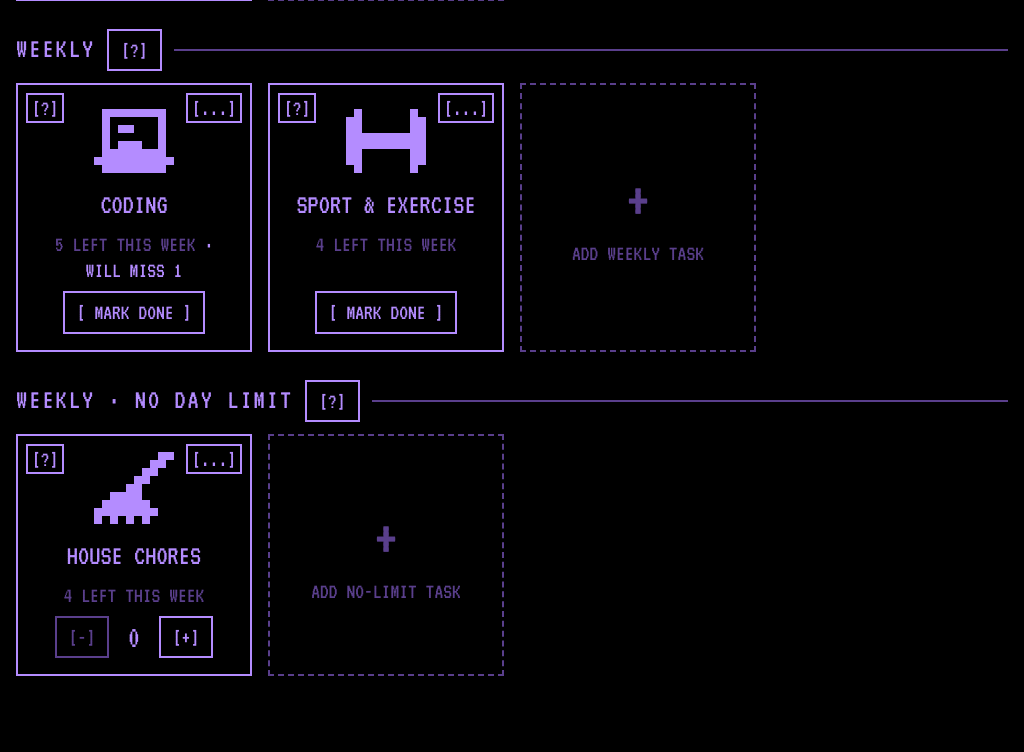
Test: App › counts chores up and down
The width and height of the screenshot is (1024, 752).
(page scrolled)
Expected: the button named "Remove one House Chores" is disabled, [55,616,109,658]
Click the button named "Add one House Chores": [186, 637] box [159,616,213,658]
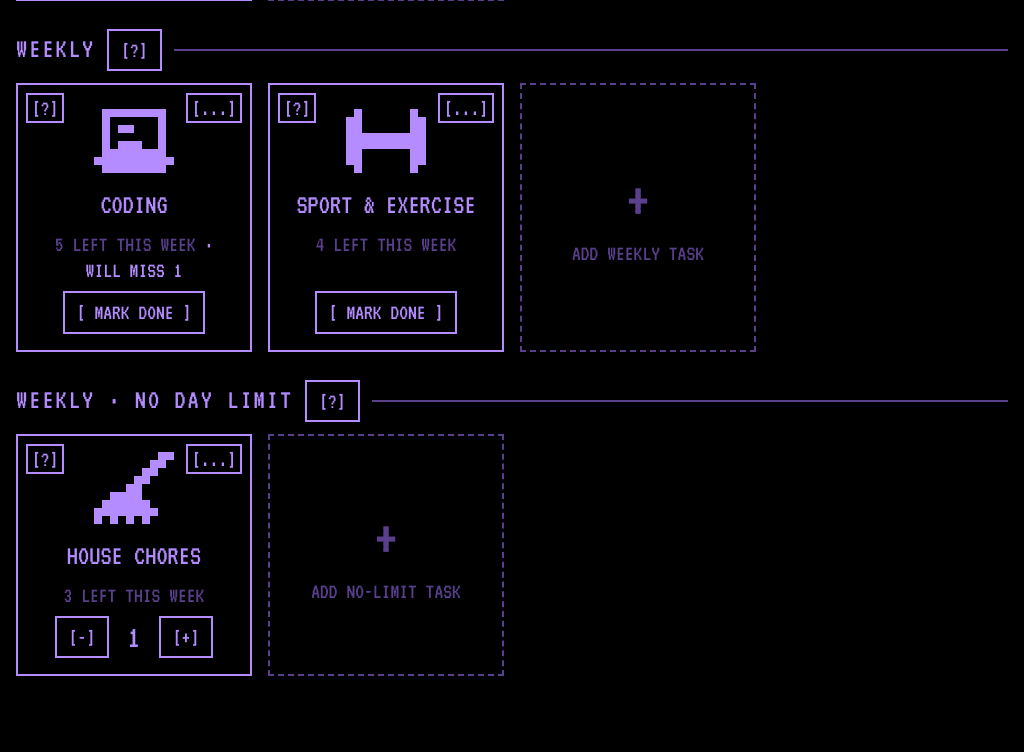
Click the button named "Add one House Chores": [186, 637] box [159,616,213,658]
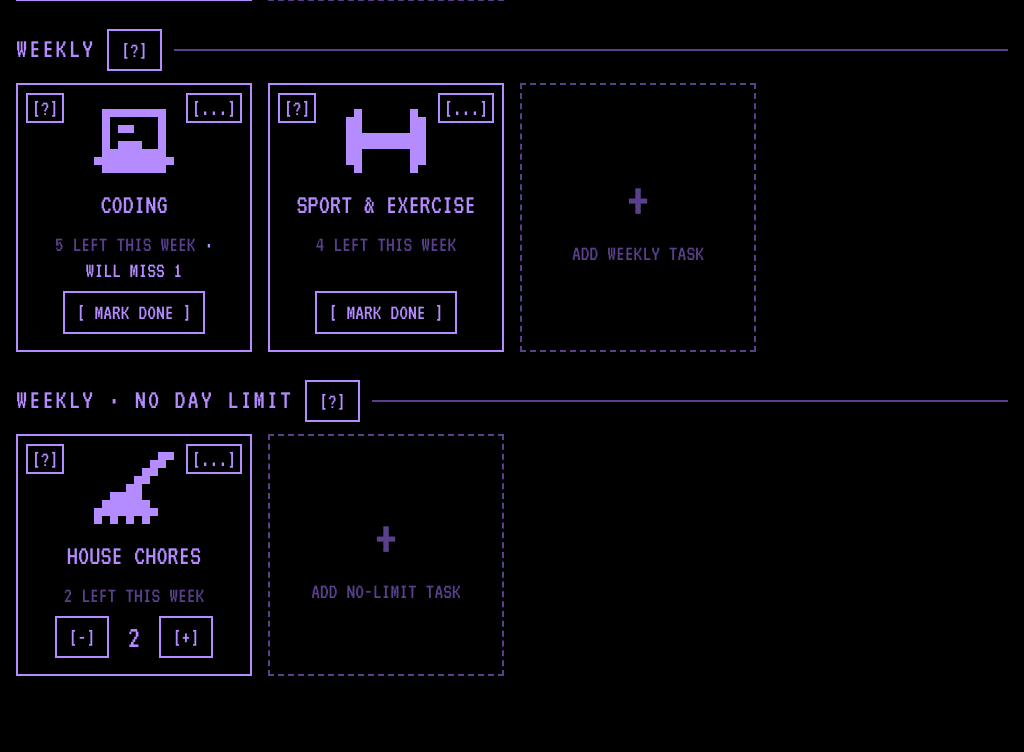
Result: the text "2" is shown at [128,621,140,653]
Result: the text "2 LEFT THIS WEEK" is shown at [64,582,204,608]
Click the button named "Remove one House Chores": [82, 637] box [55,616,109,658]
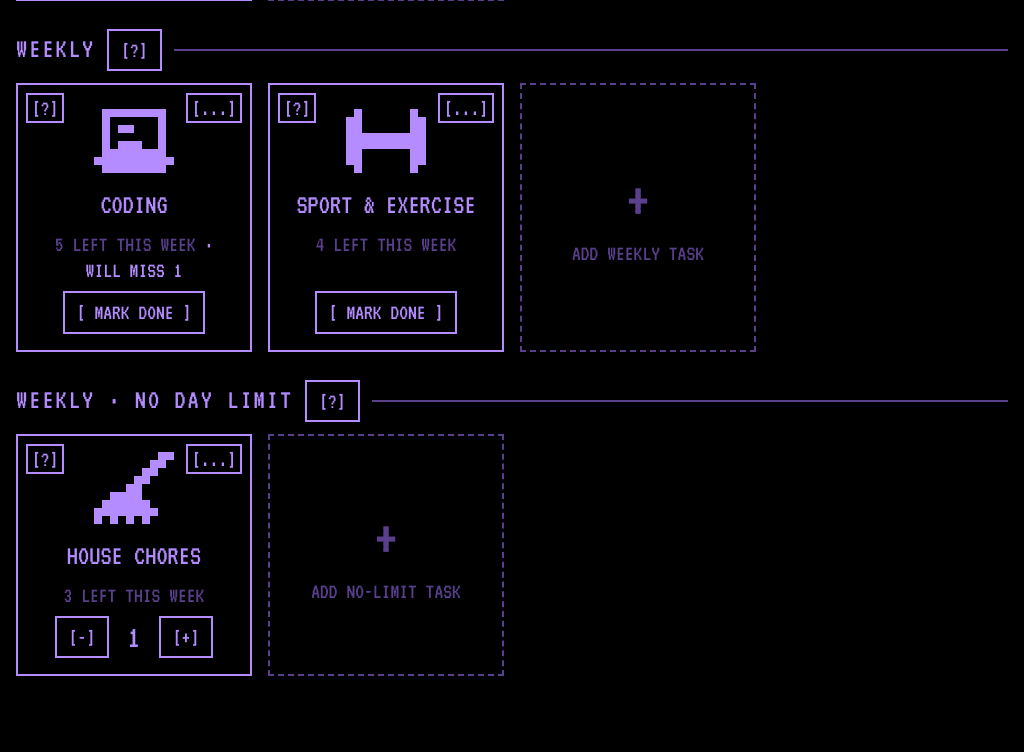
Result: the text "1" is shown at [128,621,140,653]
